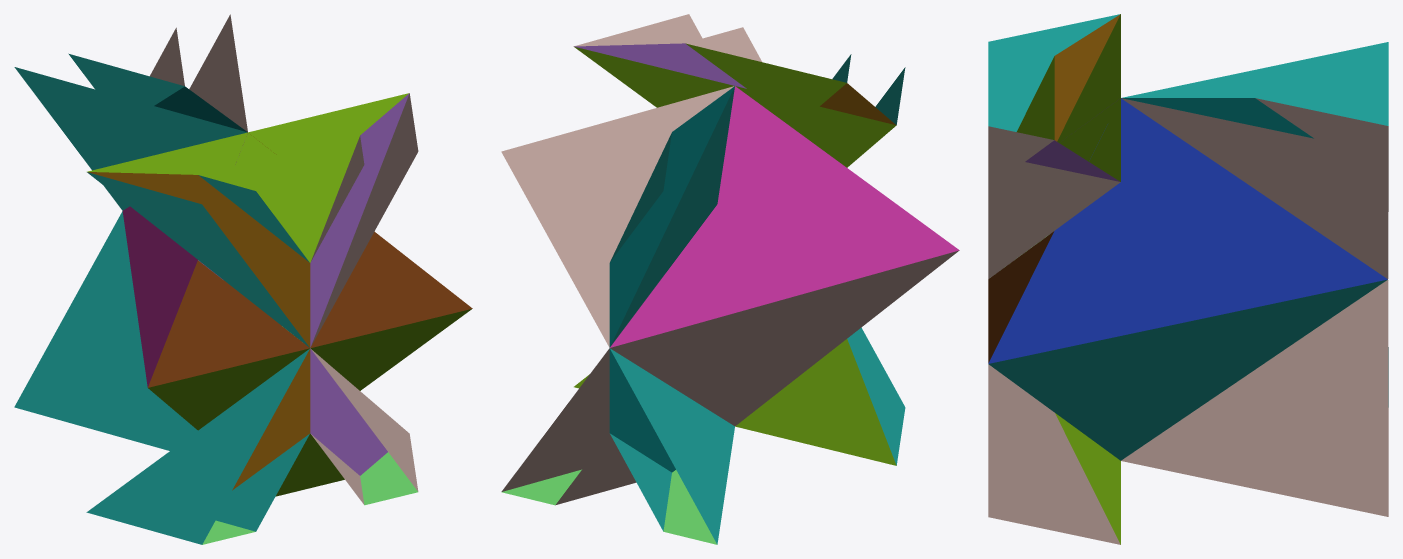
Rendered from zeometry-fragments-ruins-plane-cluster_v1.glb.
The picture shows the model from 3 angles, left to right: view 1: azimuth 30°, elevation 25°; view 2: azimuth 150°, elevation 25°; view 3: azimuth 270°, elevation 25°; orthographic projection. The views are drawn at different scales.
Parts seen in each view (by area): view 1: Plane Cluster; view 2: Plane Cluster; view 3: Plane Cluster.
Boxes of the visible parts, x1=… form: Plane Cluster: x1=14, y1=14, x2=472, y2=544; Plane Cluster: x1=501, y1=14, x2=959, y2=544; Plane Cluster: x1=988, y1=14, x2=1388, y2=544.
Size of the model in its own units: 0.4992 by 0.4998 by 0.5.
